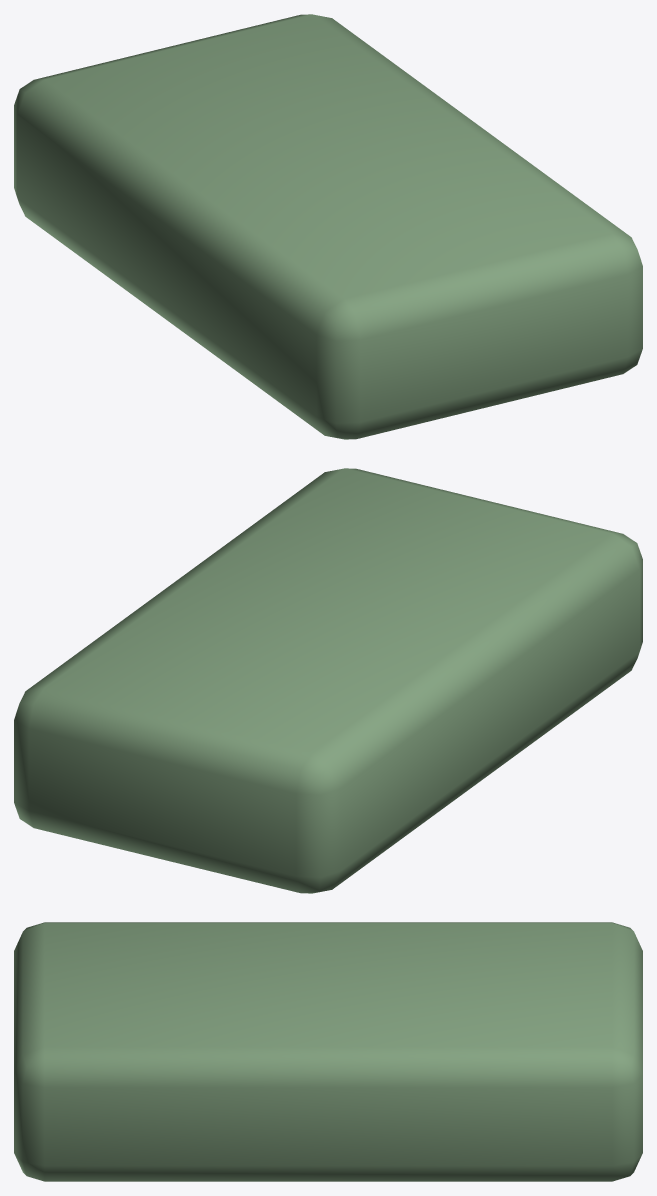
Rendered from conveyor_slat.glb.
3 renders of one model, top to bottom at view 1: azimuth 30°, elevation 25°; view 2: azimuth 150°, elevation 25°; view 3: azimuth 270°, elevation 25°, orthographic. The views are drawn at different scales.
Parts seen in each view (by area): view 1: Cube; view 2: Cube; view 3: Cube.
Boxes of the visible parts, box(x1,y1,x2,y2) form: Cube: box(14, 14, 642, 439); Cube: box(14, 468, 642, 893); Cube: box(14, 922, 642, 1181).
Size of the model in its own units: 0.1156 by 0.0481 by 0.2056.
